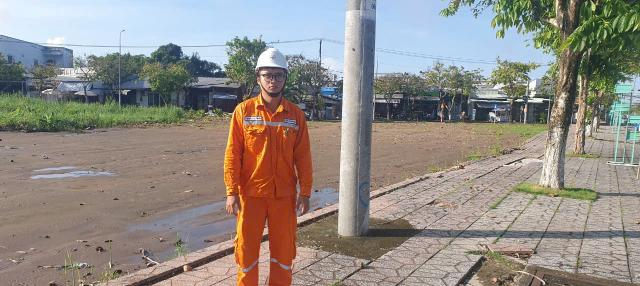helmet: (250, 47, 295, 76)
